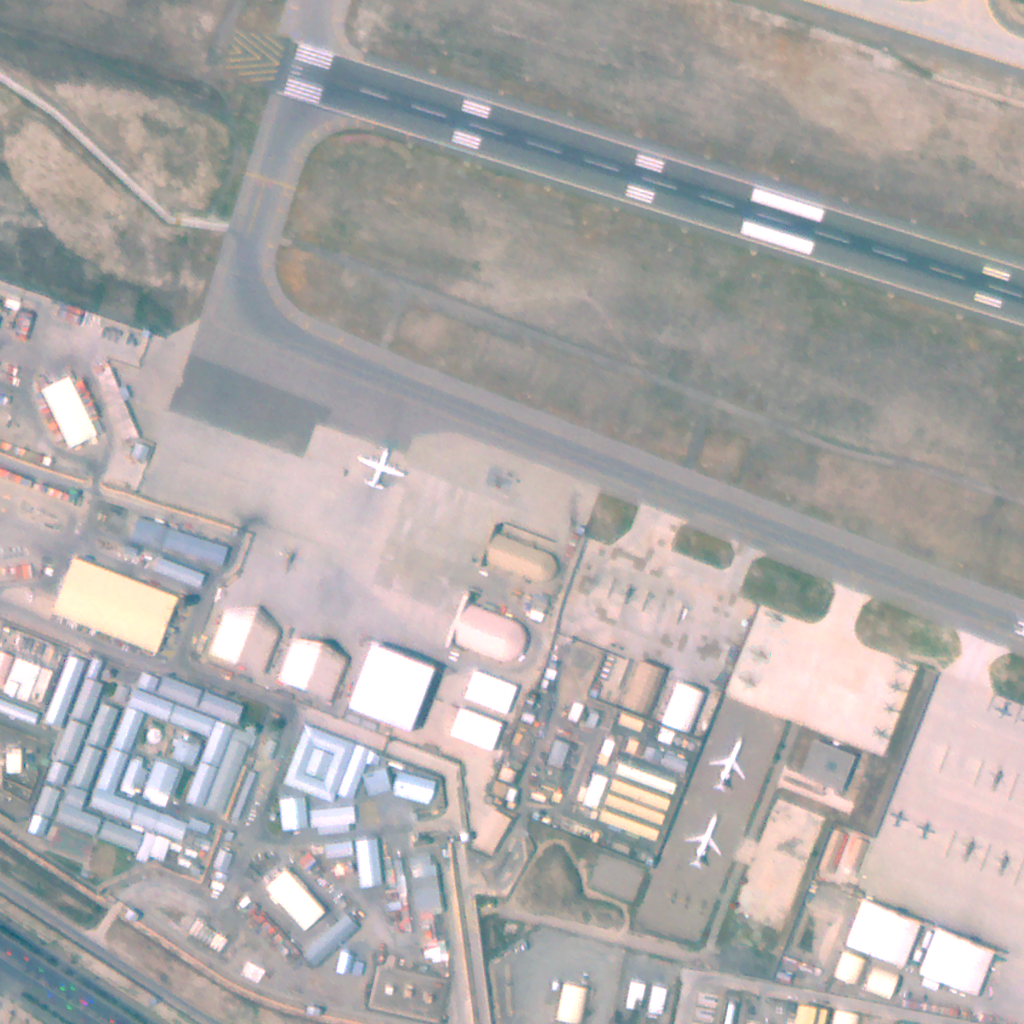plane: (707, 737, 755, 793), (361, 446, 409, 493), (687, 813, 726, 869)
